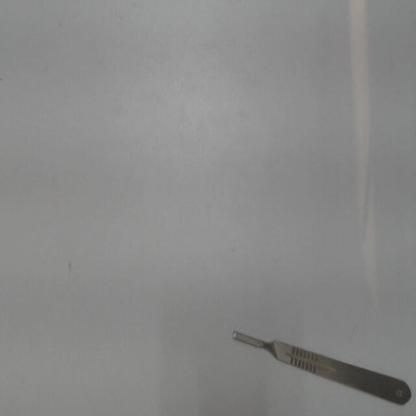No.4 BP Handle: (230, 314, 414, 411)
